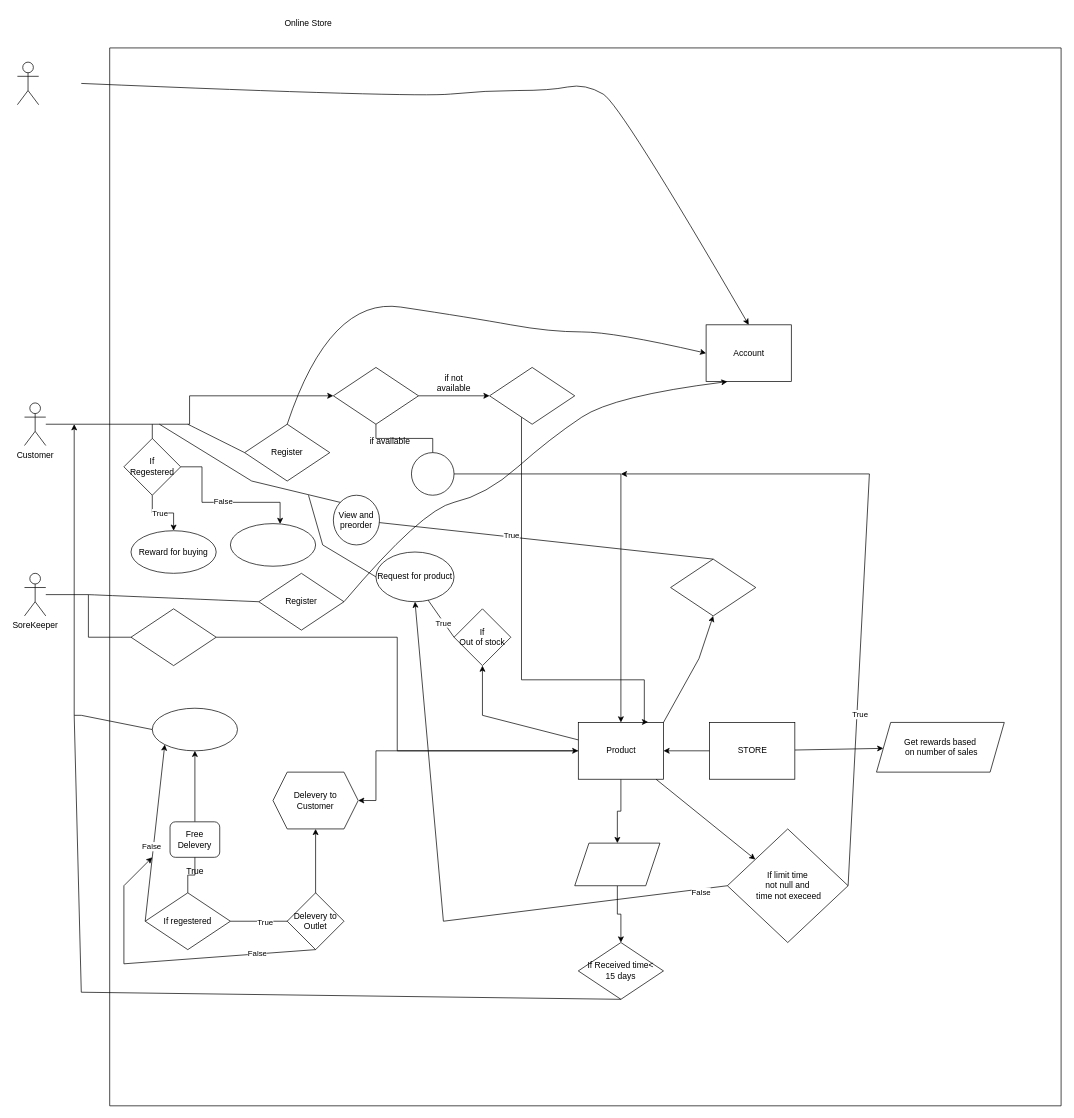
The diagram is 1074 pixels wide and 1118 high, and some of its shapes have lost their labels. Here are the shapes that lost their labels. From the top down, the box of each, then its label:
(17, 61, 39, 105): Admin
(333, 367, 419, 424): SEARCH/ FILTER
(489, 367, 575, 424): Request
(411, 452, 454, 495): ORDER
(230, 523, 316, 566): No Reward
(670, 558, 756, 616): If Upcomming
(130, 608, 216, 666): CRUD
(152, 708, 237, 751): Shipping
(574, 842, 660, 886): Exchange
